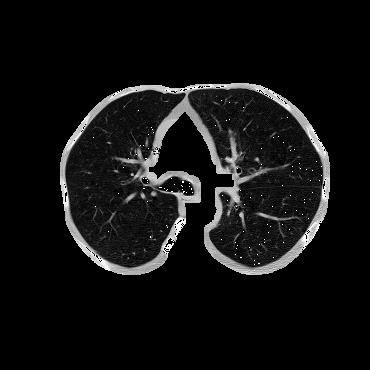PN: (150, 190, 158, 198)
